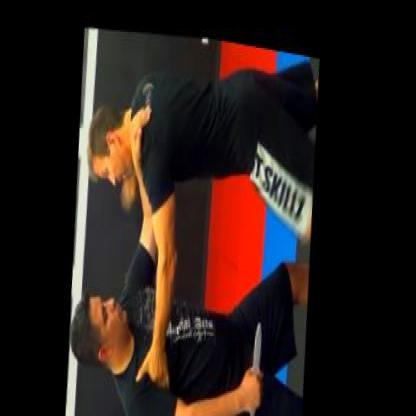knife: (250, 307, 274, 408)
